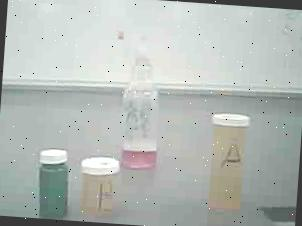Bottle A: (203, 111, 252, 214)
Bottle B: (76, 154, 121, 217)
Bottle C: (31, 148, 76, 220)
hazard: (106, 30, 170, 168)
